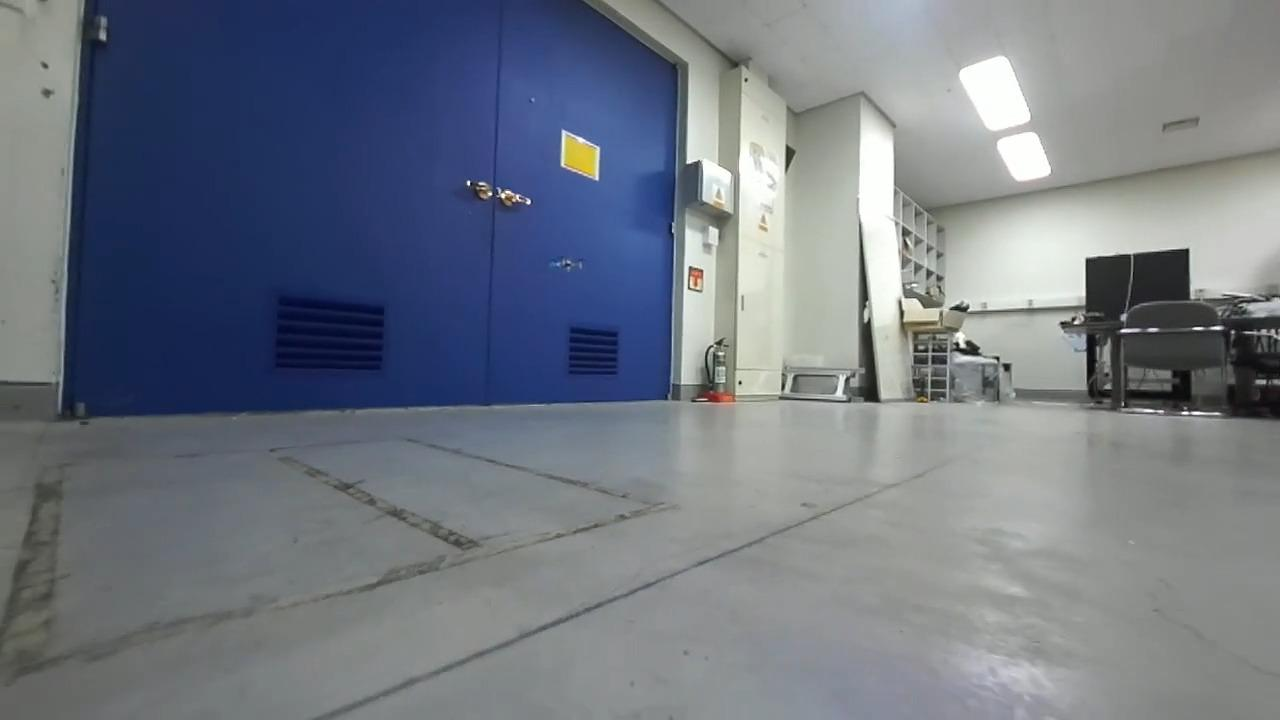crazyflie: (541, 250, 592, 278)
